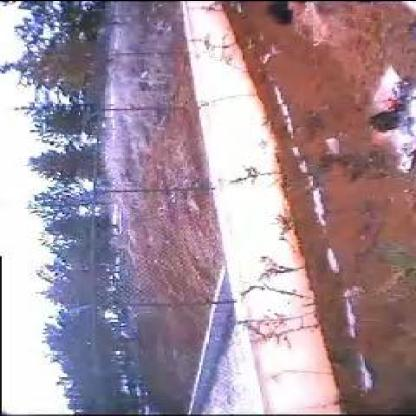foggia-v2-map80-epoch100 - v1 4323: (381, 96, 399, 113)
